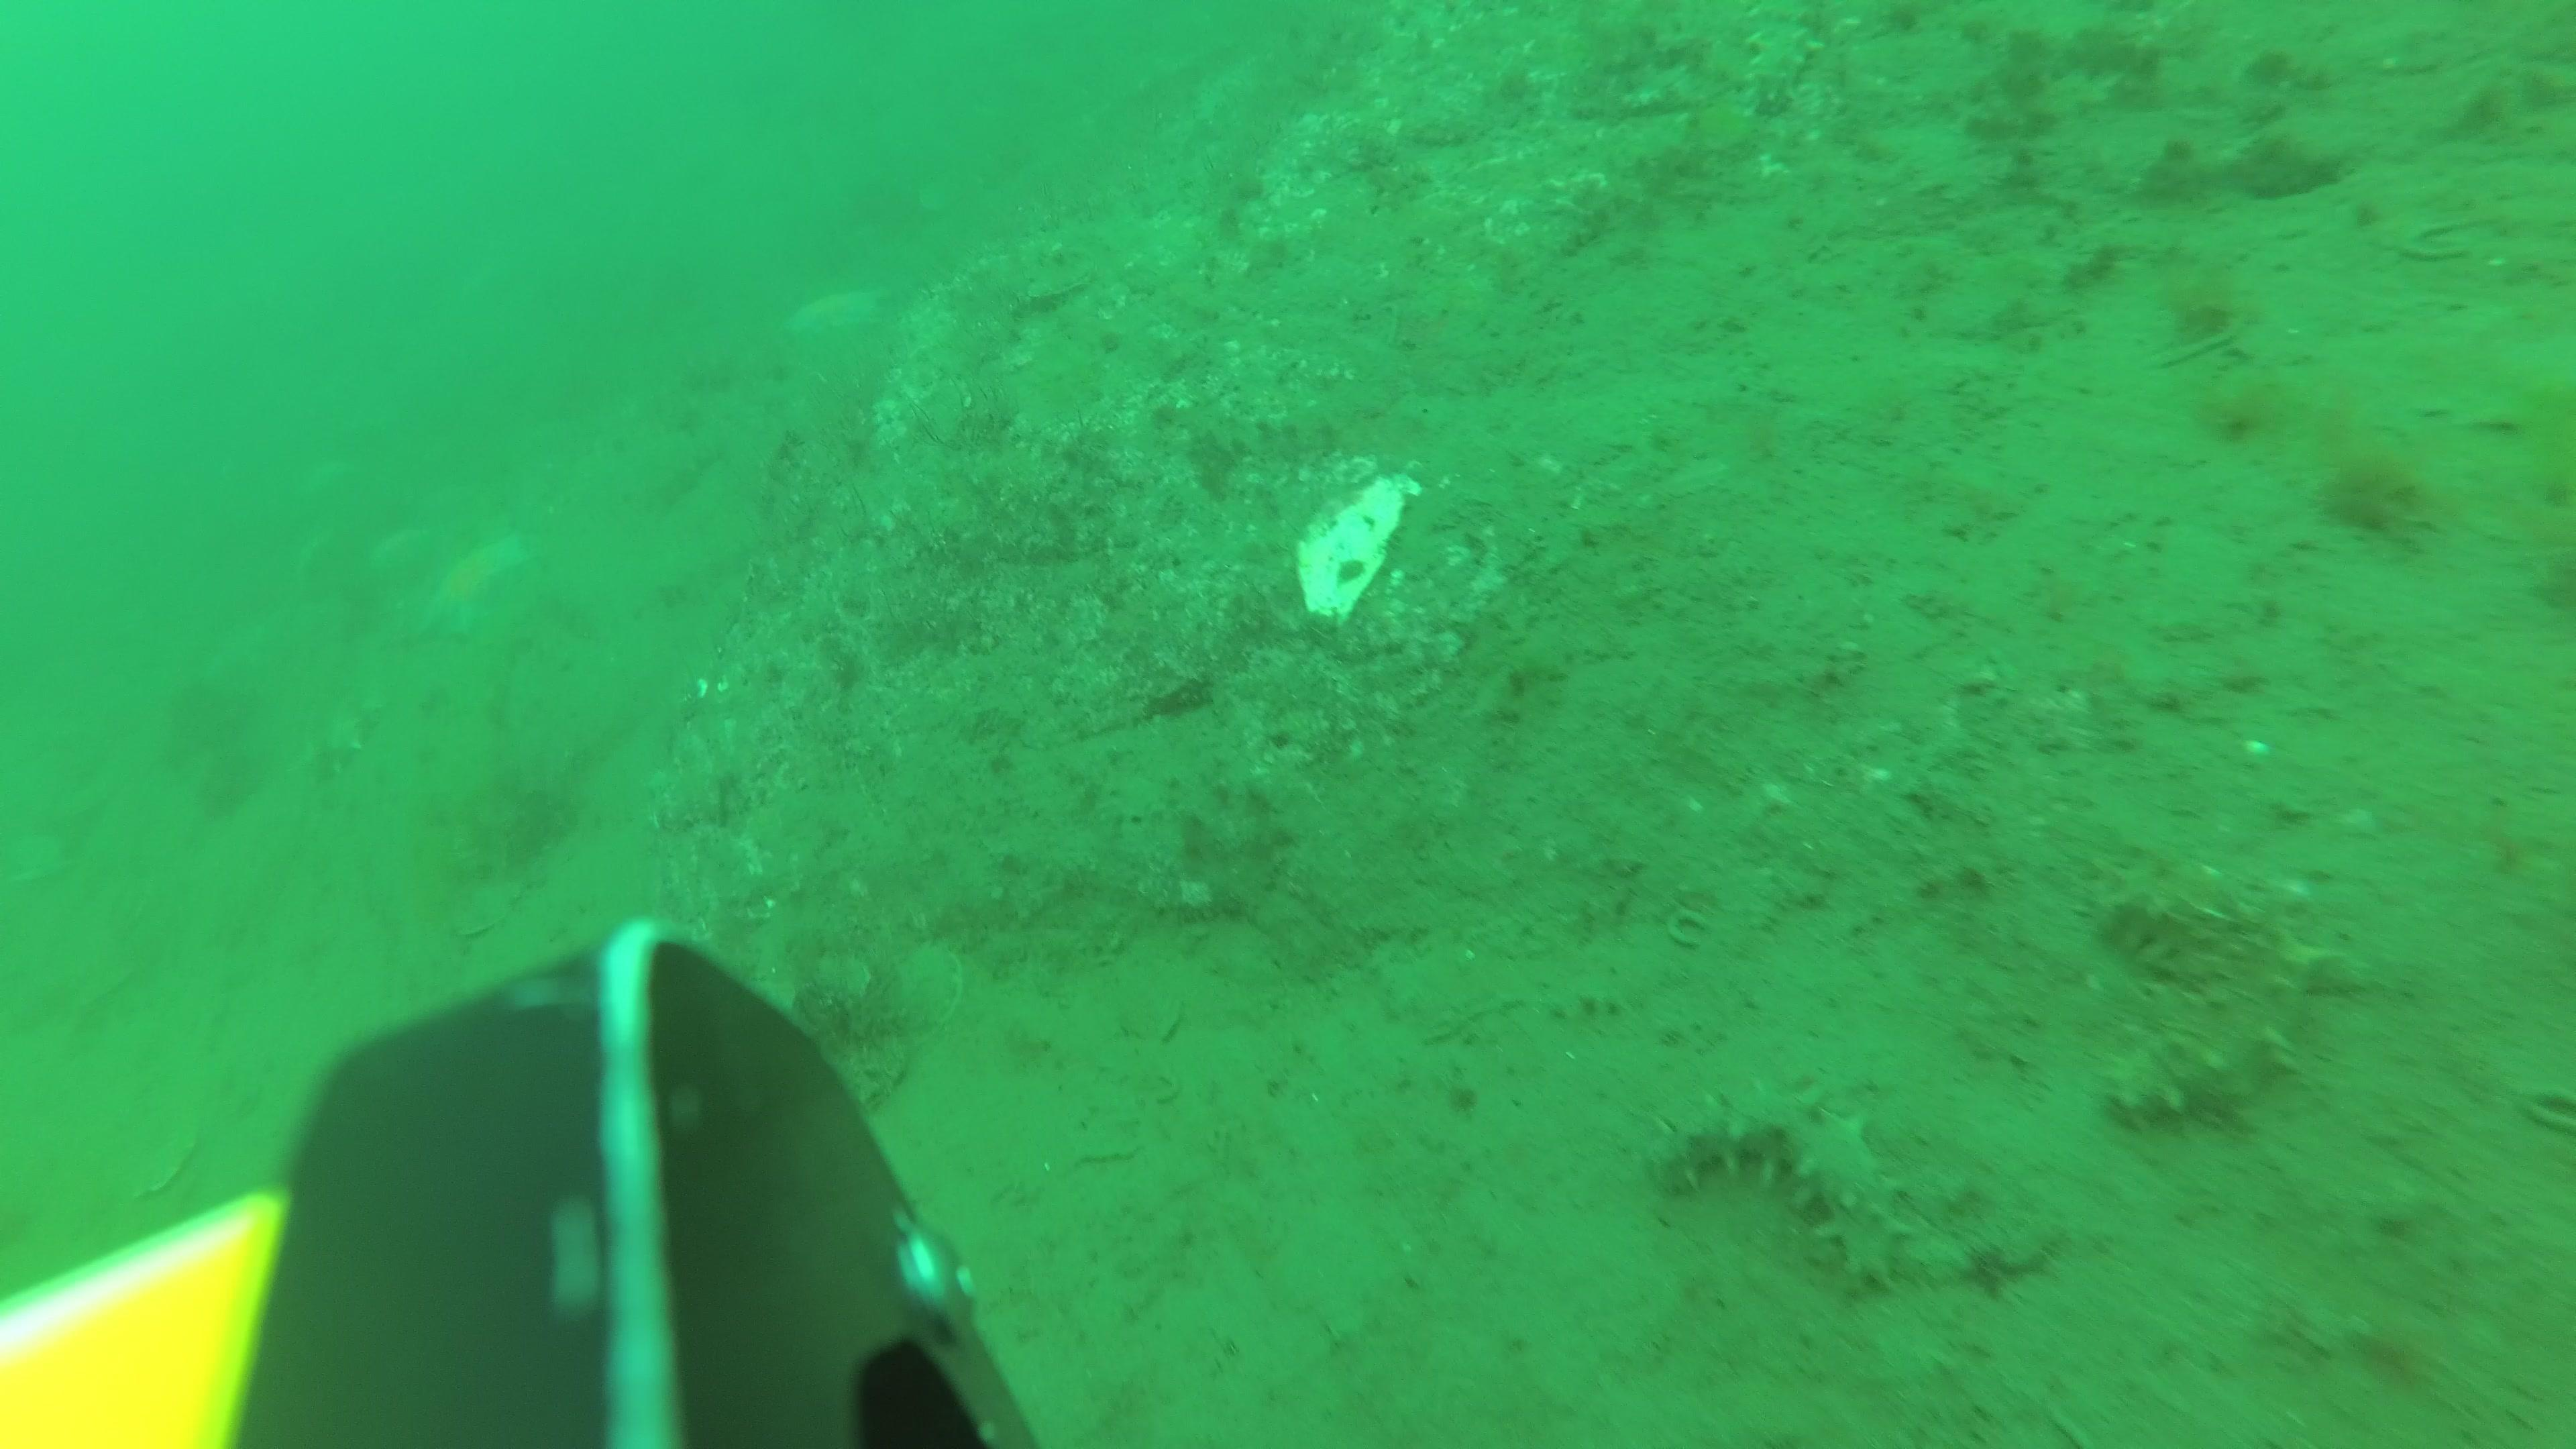holothurian: (2104, 855, 2346, 1123), (1651, 1083, 1913, 1288), (317, 694, 377, 789)
starfish: (432, 527, 527, 639), (784, 294, 885, 345)
